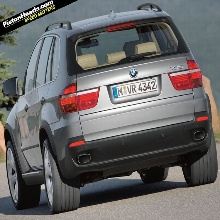no damage: (1, 2, 218, 211)
